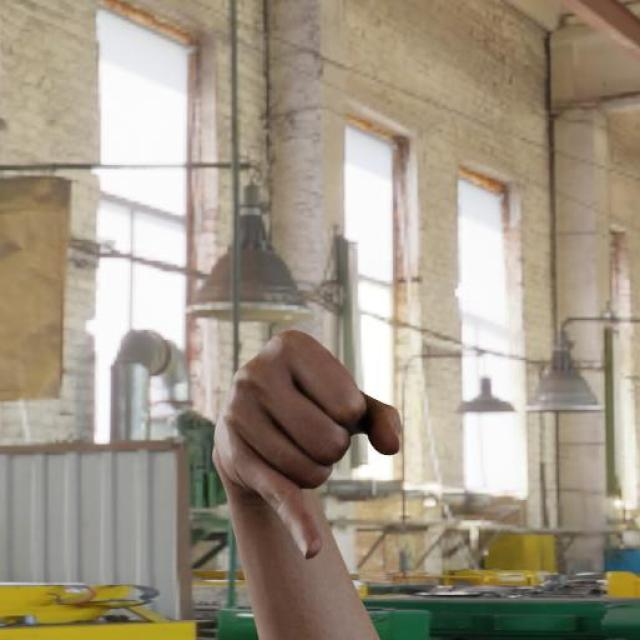J: (184, 301, 430, 597)
